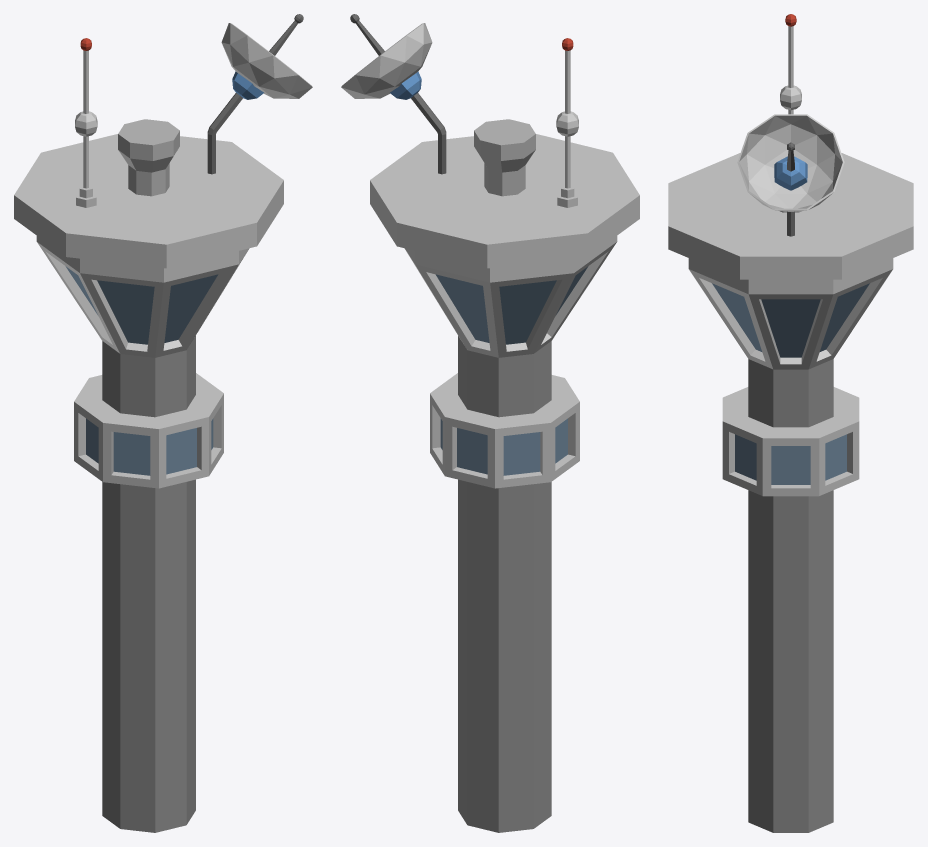
File: Tower.fbx
3 renders of one model, left to right at view 1: azimuth 30°, elevation 25°; view 2: azimuth 150°, elevation 25°; view 3: azimuth 270°, elevation 25°, orthographic. The views are drawn at different scales.
Parts seen in each view (by area): view 1: Tower; view 2: Tower; view 3: Tower.
Boxes of the visible parts, box(x1,y1,x2,y2) form: Tower: box(14, 14, 312, 832); Tower: box(341, 14, 639, 832); Tower: box(668, 14, 913, 832).
Size of the model in its own units: 3.48 by 9.97 by 2.88.
